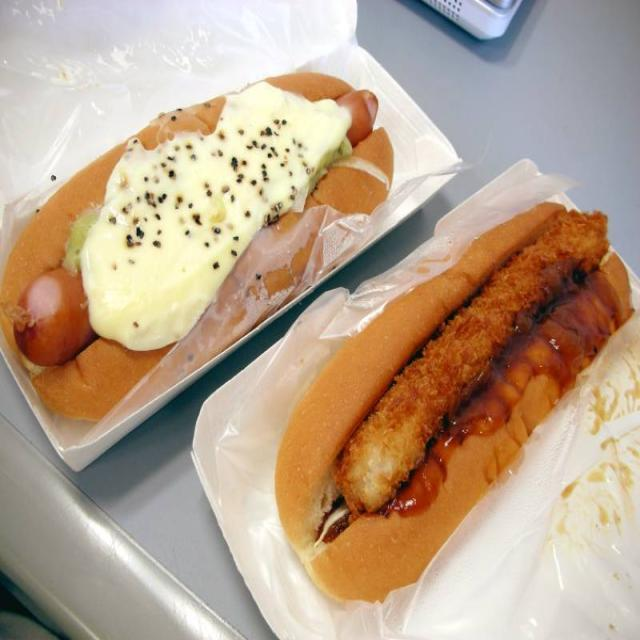Hot Dog: (260, 197, 640, 602)
